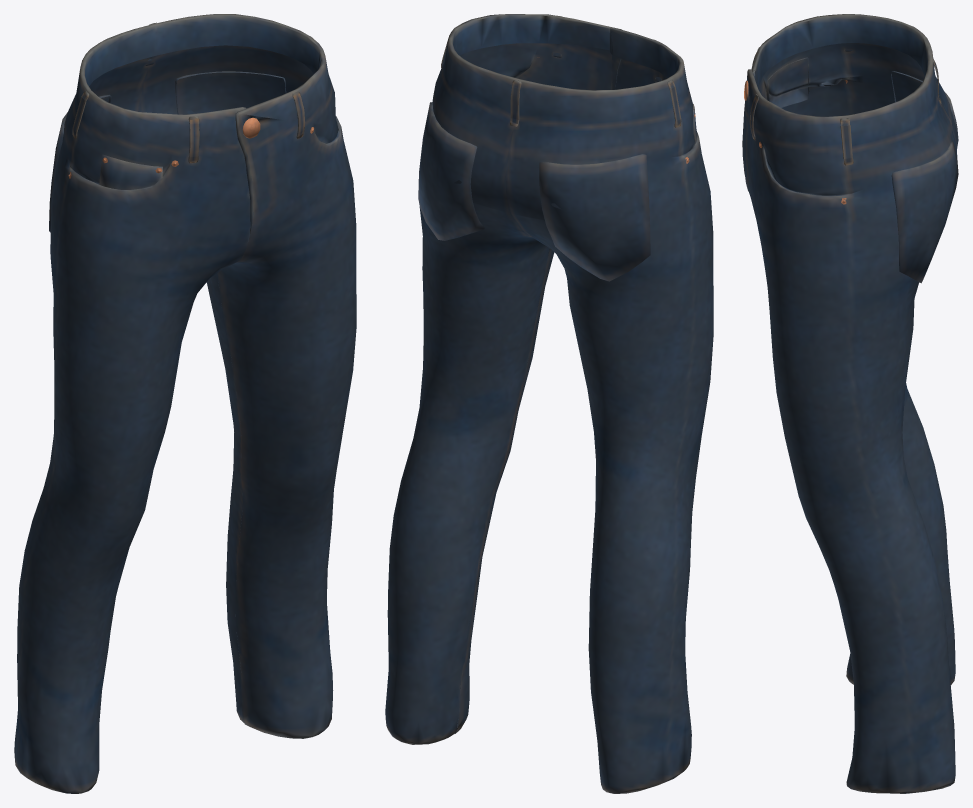
File: SM_male_jeans.glb
3 renders of one model, left to right at view 1: azimuth 30°, elevation 25°; view 2: azimuth 150°, elevation 25°; view 3: azimuth 270°, elevation 25°, orthographic. The views are drawn at different scales.
Visible parts, largest first — view 1: SM_male_jeans; view 2: SM_male_jeans; view 3: SM_male_jeans.
Boxes of the visible parts, <box> form: SM_male_jeans: <box>14,14,356,793</box>; SM_male_jeans: <box>385,14,713,793</box>; SM_male_jeans: <box>742,14,958,793</box>.
Size of the model in its own units: 2.52 by 5.72 by 1.66.
Materials: 1 (1 with a texture image).
